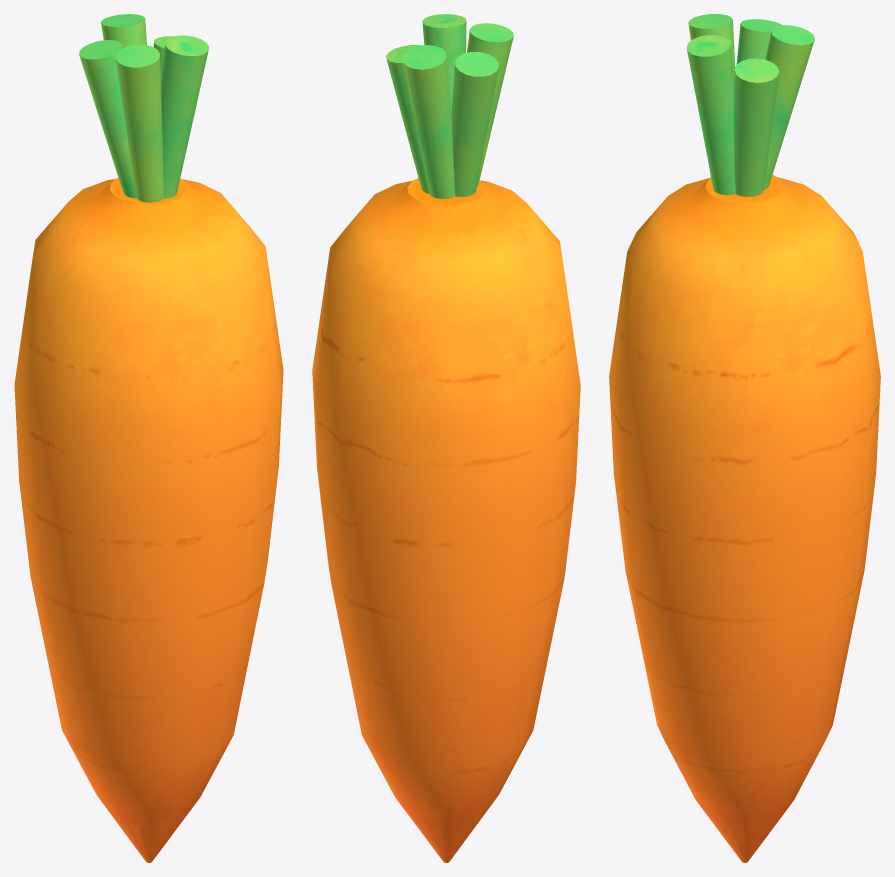
The model's file is carrot.glb.
The picture shows the model from 3 angles, left to right: view 1: azimuth 30°, elevation 25°; view 2: azimuth 150°, elevation 25°; view 3: azimuth 270°, elevation 25°; orthographic projection.
Parts seen in each view (by area): view 1: Carrot; view 2: Carrot; view 3: Carrot.
Boxes of the visible parts, box(x1,y1,x2,y2) form: Carrot: box(14, 14, 283, 862); Carrot: box(312, 14, 580, 862); Carrot: box(609, 14, 880, 862).
Size of what is drawn, in the model's own units: 0.5074 by 1.71 by 0.5074.
1 material, 1 textured.
